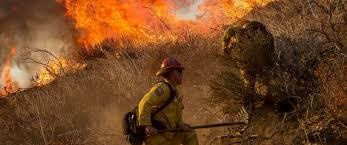fire: (62, 0, 265, 49), (30, 52, 85, 85)
